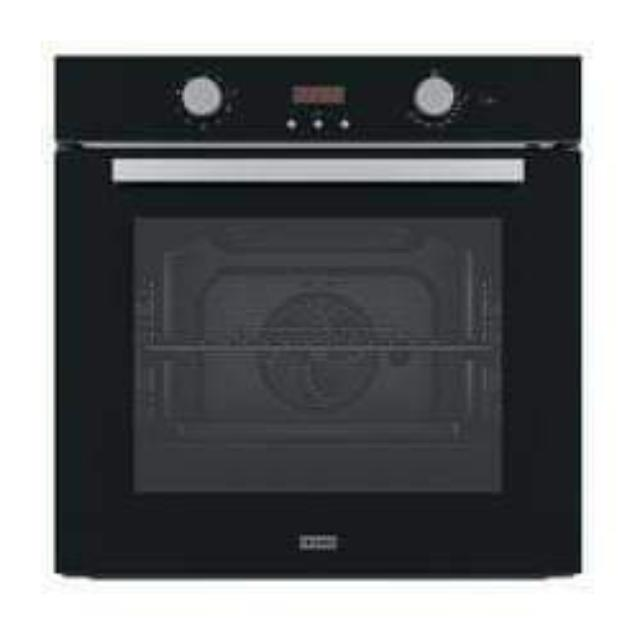Oven: (54, 54, 584, 584)
